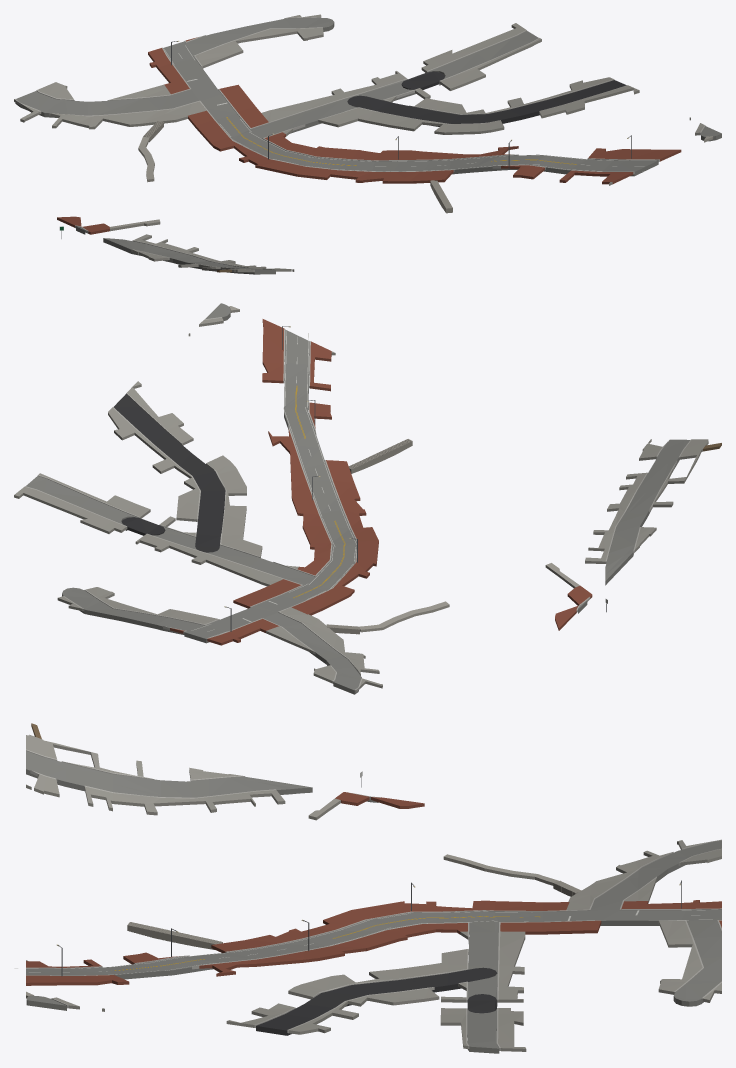
The picture shows the model from 3 angles, top to bottom: view 1: azimuth 30°, elevation 25°; view 2: azimuth 150°, elevation 25°; view 3: azimuth 270°, elevation 25°; orthographic projection. The views are drawn at different scales.
Size of the model in its own units: 154 by 25.33 by 148.
